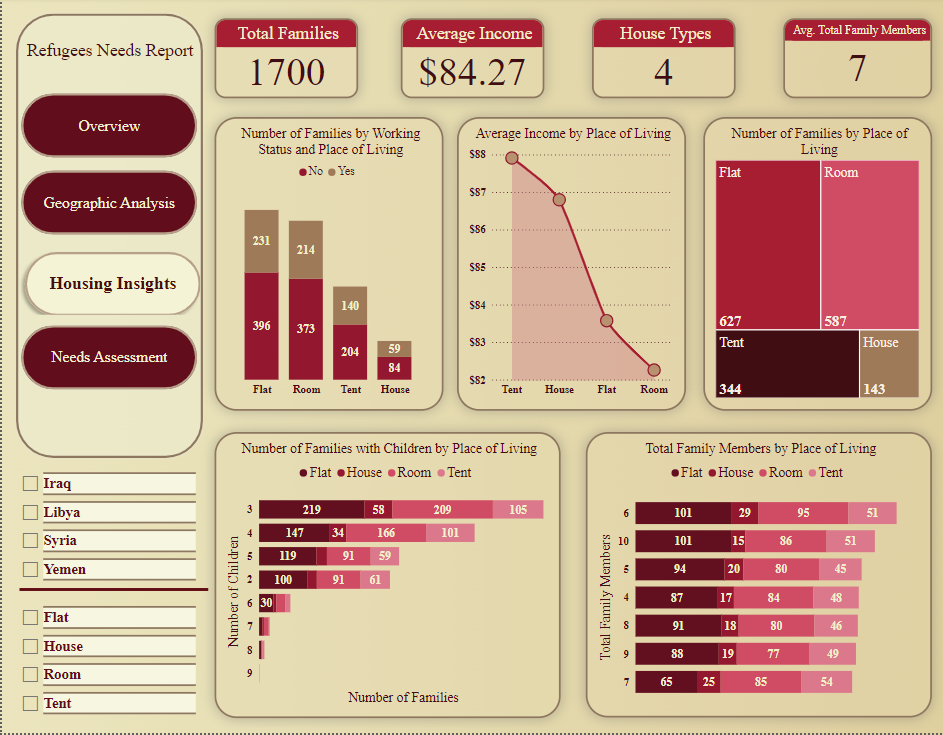

What the dashboard file says about the page in this screenshot:
{"tool":"powerbi","page":{"name":"Housing Insights","canvas":[1280,1000],"ordinal":2},"visuals":[{"type":"card","title":"House Types","fields":{"Values":["Measures_.total_housetypes"]},"box":[801.6,28.9,195.3,108.7],"z":0},{"type":"card","title":"Avg. Total Family Members","fields":{"Values":["Measures_.avg_total_family_members"]},"box":[1061.5,28.9,202.1,108.7],"z":1000},{"type":"card","title":"Average Income","fields":{"Values":["Avg(Needs.Income)"]},"box":[541.8,28.9,195.3,108.7],"z":2000},{"type":"card","title":"Total Families","fields":{"Values":["Count(Needs.Name)"]},"box":[288.7,28.9,195.3,108.7],"z":3000},{"type":"shape","box":[15.3,18.7,261.6,611.4],"z":4000},{"type":"columnChart","title":"Number of Families by Working Status and Place of Living","fields":{"Y":["Count(Needs.Name)"],"Category":["Needs.House"],"Series":["Needs.Is Working?"]},"box":[288.7,163,310.8,399.1],"z":5000},{"type":"barChart","title":"Total Family Members by Place of Living","fields":{"Category":["Needs.Total_Family_Members"],"Series":["Needs.House"],"Y":["CountNonNull(Needs.Name)"]},"box":[793.1,591,470.5,388],"z":6000},{"type":"treemap","title":"Number of Families by Place of Living","fields":{"Group":["Needs.House"],"Values":["CountNonNull(Needs.Name)"]},"box":[952.8,163,310.8,399.1],"z":7000},{"type":"barChart","title":"Number of Families with Children by Place of Living","fields":{"Category":["Needs.Under 18 "],"Y":["Count(Needs.Index)"],"Series":["Needs.House"]},"box":[288.7,591,470,388.9],"z":8000},{"type":"lineChart","title":"Average Income by Place of Living","fields":{"Y":["Avg(Needs.Income)"],"Category":["Needs.House"]},"box":[618.2,163,310.8,399.1],"z":9000},{"type":"shape","box":[23.8,798,256.5,13.6],"z":10000},{"type":"textbox","box":[22.1,54.3,249.7,42.5],"z":11000},{"type":"pageNavigator","box":[22.1,107,248,433.1],"z":12000},{"type":"slicer","fields":{"Values":["Needs.House"]},"box":[15,818,253,168],"z":13000},{"type":"slicer","fields":{"Values":["Needs.Country"]},"box":[15.3,636.9,253.1,168.1],"z":14000}]}

Visuals, with their boxes in screenshot pixels (x1, y1, x2, y2), scaled from the page's 1280x1000 canvas onto the 943x735 screenshot:
"House Types" card: Rect(591, 21, 734, 101)
"Avg. Total Family Members" card: Rect(782, 21, 931, 101)
"Average Income" card: Rect(399, 21, 543, 101)
"Total Families" card: Rect(213, 21, 357, 101)
shape: Rect(11, 14, 204, 463)
"Number of Families by Working Status and Place of Living" columnChart: Rect(213, 120, 442, 413)
"Total Family Members by Place of Living" barChart: Rect(584, 434, 931, 720)
"Number of Families by Place of Living" treemap: Rect(702, 120, 931, 413)
"Number of Families with Children by Place of Living" barChart: Rect(213, 434, 559, 720)
"Average Income by Place of Living" lineChart: Rect(455, 120, 684, 413)
shape: Rect(18, 587, 207, 597)
textbox: Rect(16, 40, 200, 71)
pageNavigator: Rect(16, 79, 199, 397)
slicer - Needs.House: Rect(11, 601, 197, 725)
slicer - Needs.Country: Rect(11, 468, 198, 592)
